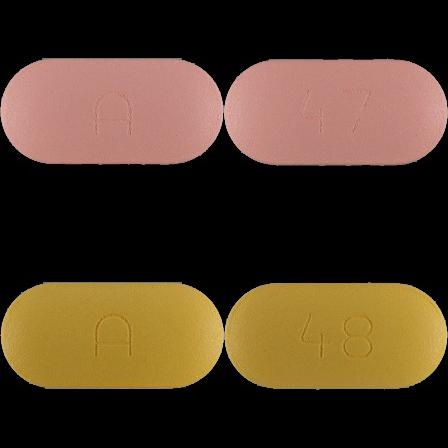65862-081: (0, 0, 224, 224)
